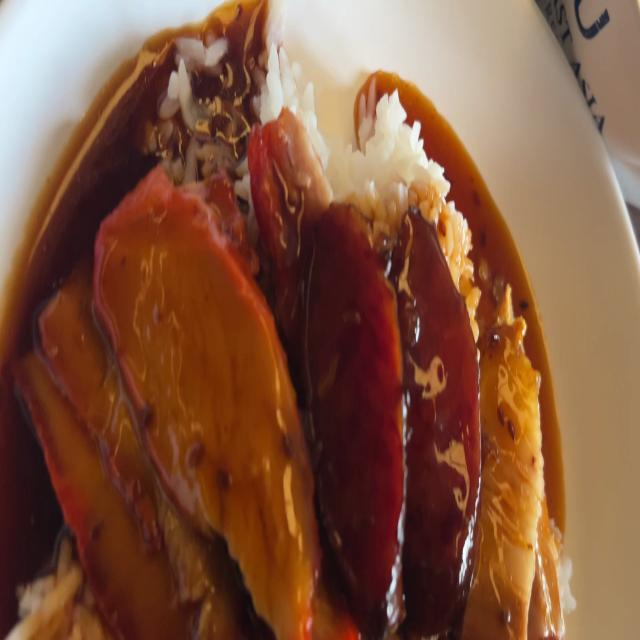stir_fried_basil: (311, 196, 482, 640), (392, 179, 480, 640), (309, 207, 403, 621)
